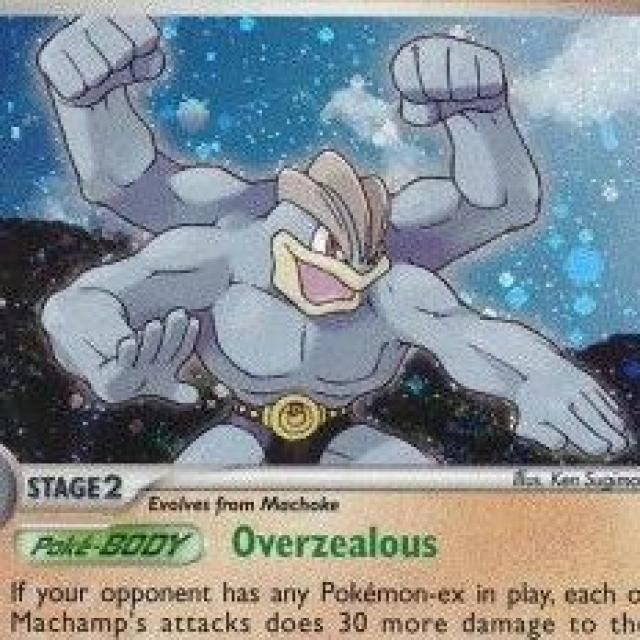Machamp: (113, 125, 481, 486)
